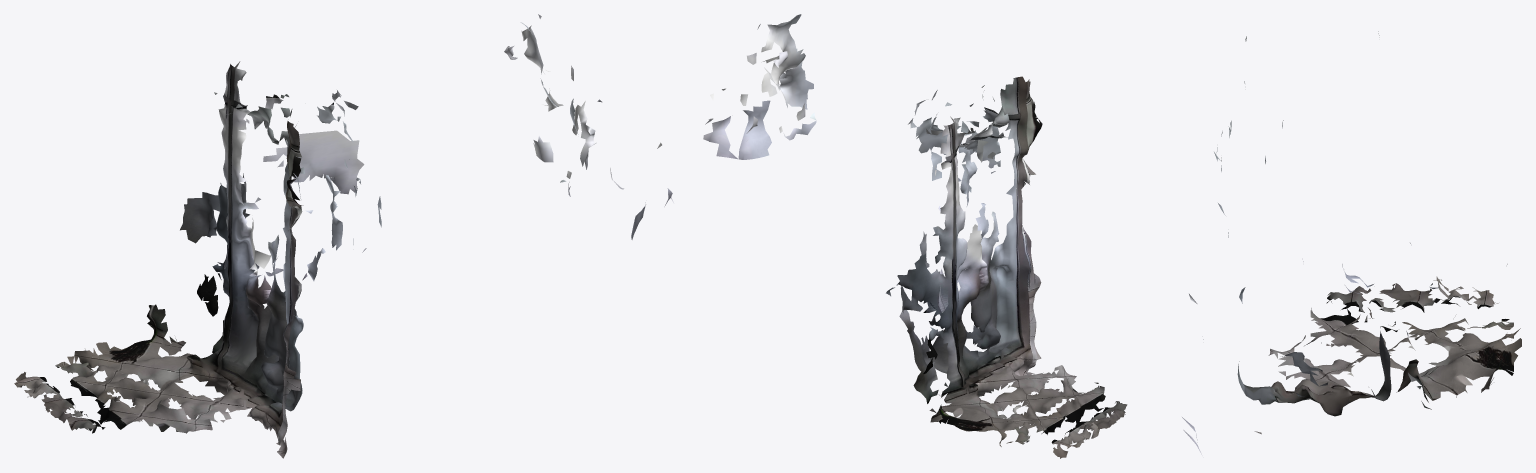
File: 121494-BelokanLt3-tex.glb
3 views of the same model, side by side, from view 1: azimuth 30°, elevation 25°; view 2: azimuth 150°, elevation 25°; view 3: azimuth 270°, elevation 25° (orthographic). The views are drawn at different scales.
Parts seen in each view (by area): view 1: Node; view 2: Node; view 3: Node.
Part boxes in pixels (<box>): Node: <box>14,14,673,458</box>; Node: <box>703,14,1127,458</box>; Node: <box>1182,31,1521,457</box>.
Size of the model in its own units: 48.25 by 31.49 by 22.74.
Materials: 2 (2 with a texture image).
